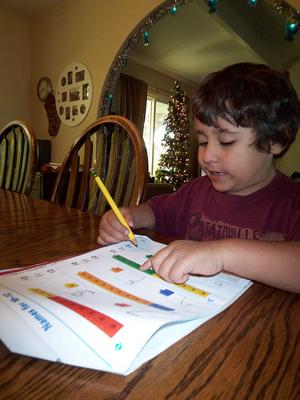person: (96, 63, 299, 296)
